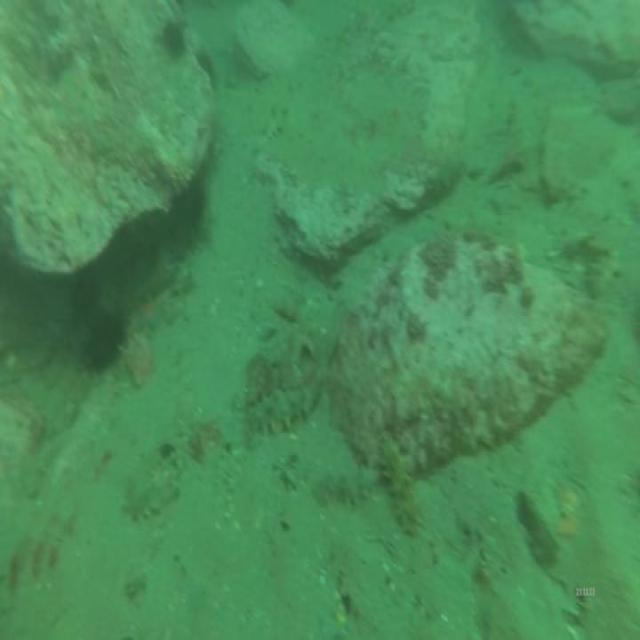echinus: (70, 300, 132, 376)
holothurian: (378, 430, 426, 547), (244, 382, 326, 441), (119, 473, 190, 526)
